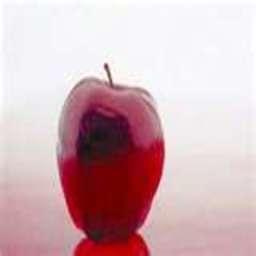apple: (56, 73, 166, 235)
